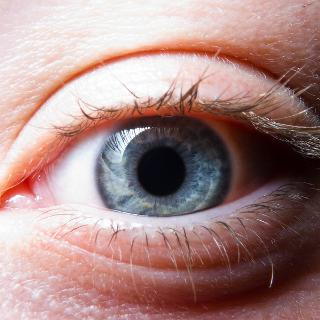pupil: (136, 145, 186, 195)
